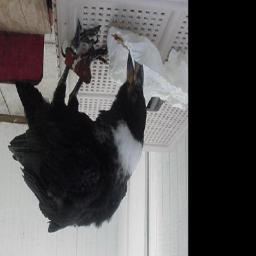Crow: (8, 19, 150, 234)
